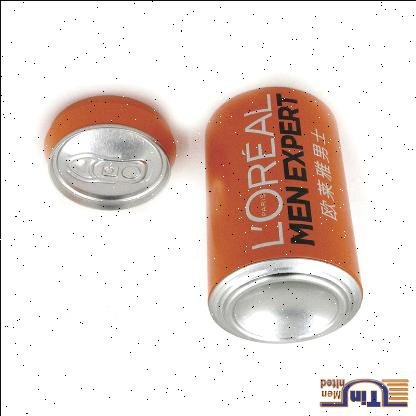Can: (205, 87, 362, 343), (43, 95, 175, 210)
